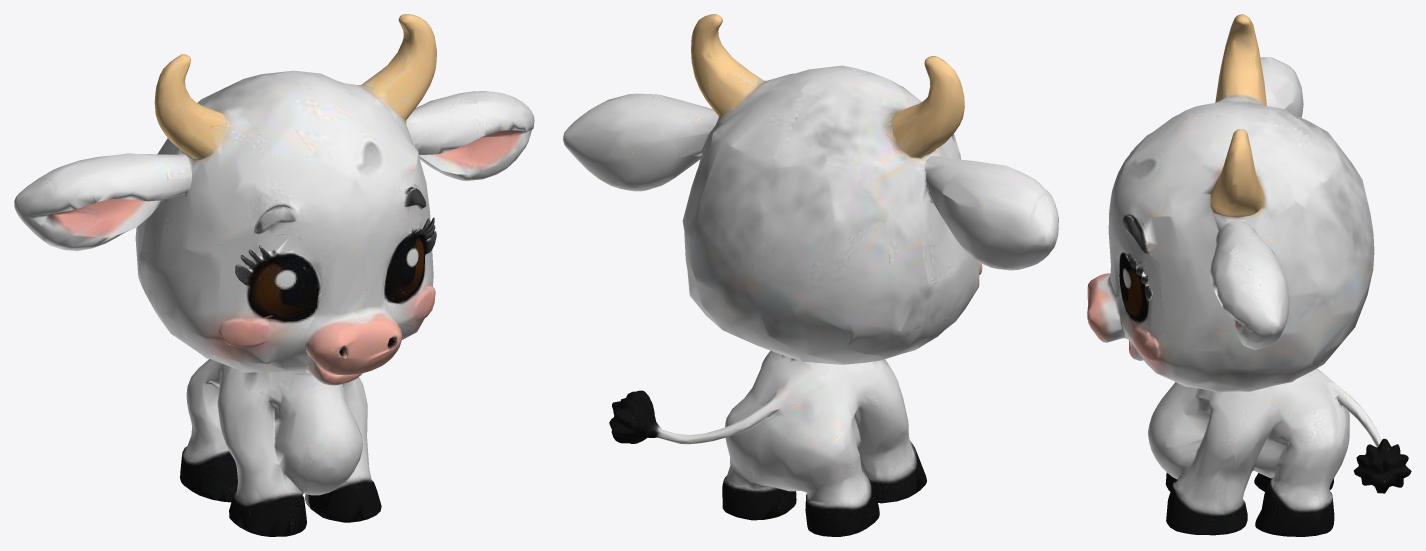
File: cow.glb
The picture shows the model from 3 angles, left to right: view 1: azimuth 30°, elevation 25°; view 2: azimuth 150°, elevation 25°; view 3: azimuth 270°, elevation 25°; orthographic projection. The views are drawn at different scales.
Bounding box in the file's own units: 1.9 × 1.69 × 1.13.
Materials: 1 (1 with a texture image).
